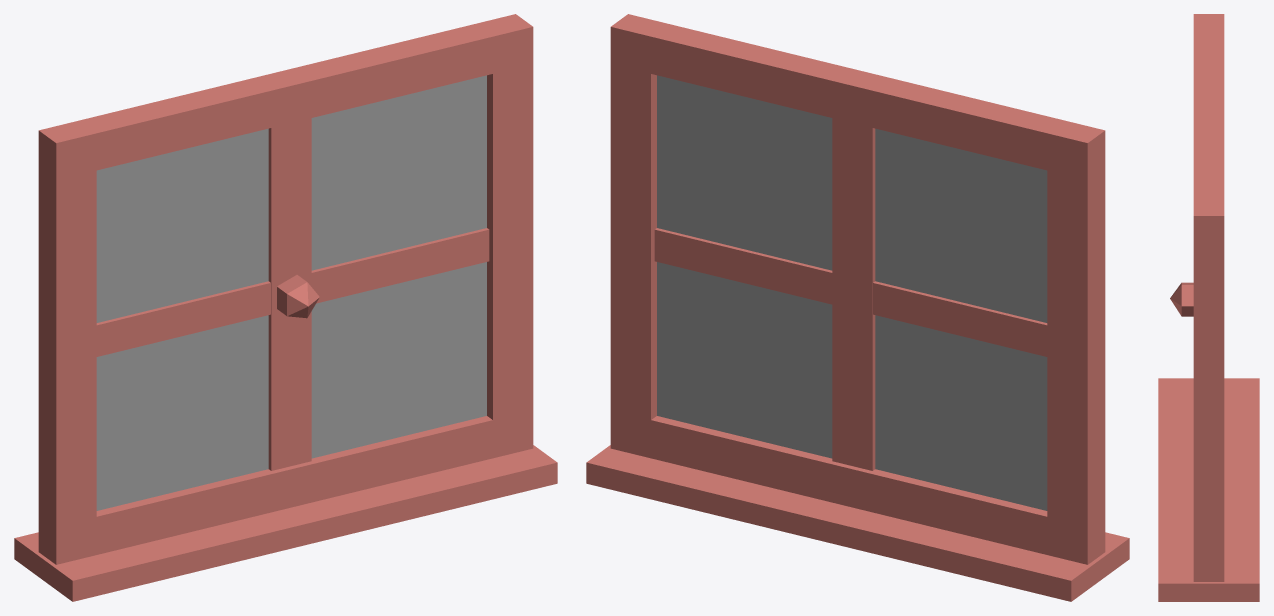
File: Window_2F.fbx
The picture shows the model from 3 angles, left to right: view 1: azimuth 30°, elevation 25°; view 2: azimuth 150°, elevation 25°; view 3: azimuth 270°, elevation 25°; orthographic projection. The views are drawn at different scales.
Visible parts, largest first — view 1: polySurface1841, Window_Glass_5; view 2: polySurface1841, Window_Glass_5; view 3: polySurface1841.
Part boxes in pixels (box(x1,y1,x2,y2)): polySurface1841: box(14, 14, 557, 601); Window_Glass_5: box(96, 75, 486, 510); polySurface1841: box(586, 14, 1129, 601); Window_Glass_5: box(657, 75, 1047, 510); polySurface1841: box(1158, 14, 1259, 601).
Bounding box in the file's own units: 2.4 × 2.09 × 0.5.
2 materials, 1 textured.
